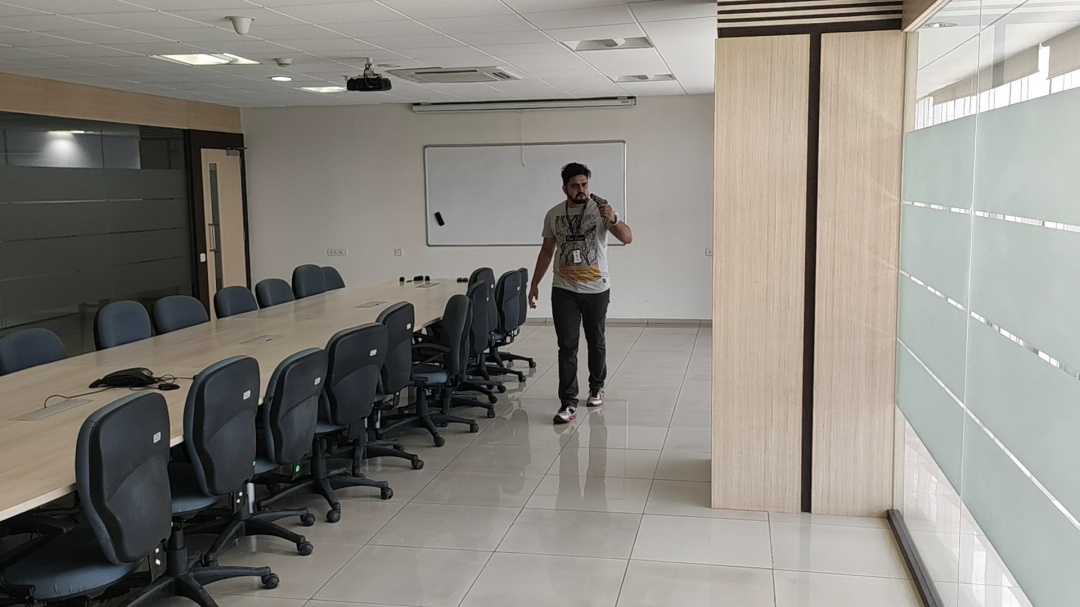gun: (590, 193, 609, 206)
